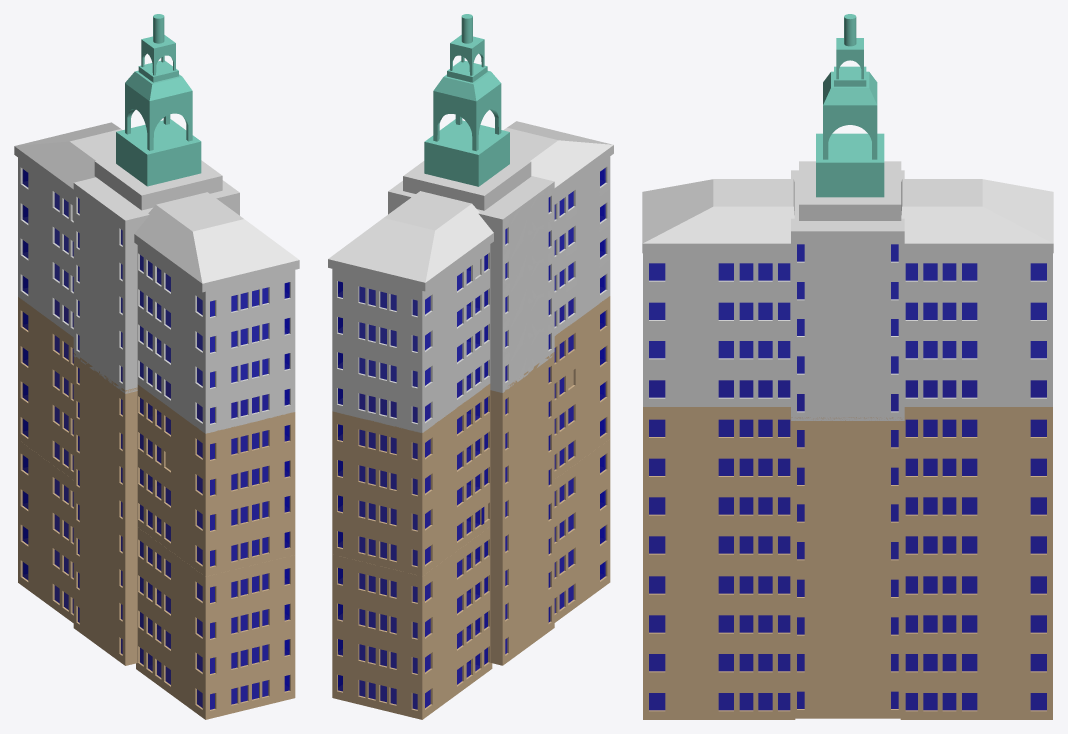
Rendered from Tower.fbx.
3 renders of one model, left to right at view 1: azimuth 30°, elevation 25°; view 2: azimuth 150°, elevation 25°; view 3: azimuth 270°, elevation 25°, orthographic. The views are drawn at different scales.
Parts seen in each view (by area): view 1: tower; view 2: tower; view 3: tower.
Boxes of the visible parts, bbox=[...] form: tower: bbox=[14, 14, 299, 719]; tower: bbox=[328, 14, 613, 719]; tower: bbox=[642, 14, 1053, 719].
Size of the model in its own units: 4.6 by 23.9 by 13.09.
